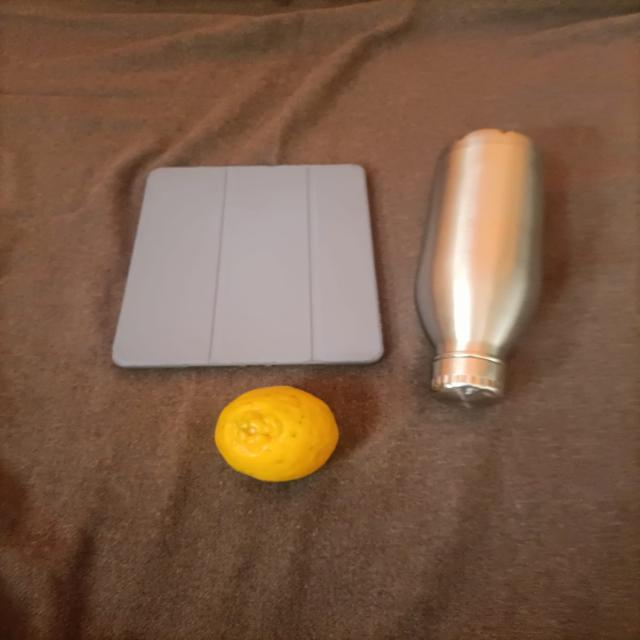bottle: (411, 123, 563, 414)
orange: (203, 380, 354, 494)
tablet: (98, 139, 399, 371)
